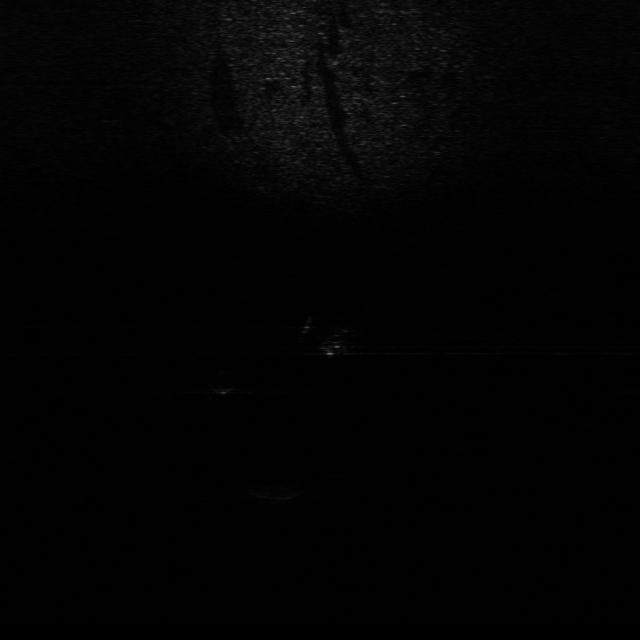ball: (208, 368, 244, 395)
circle cage: (248, 476, 310, 503)
human body: (300, 313, 370, 361)
